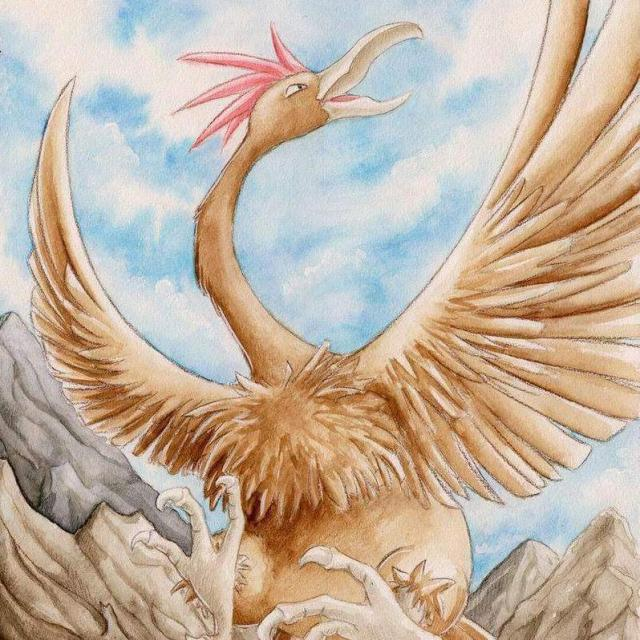Fearow: (100, 18, 531, 640)
